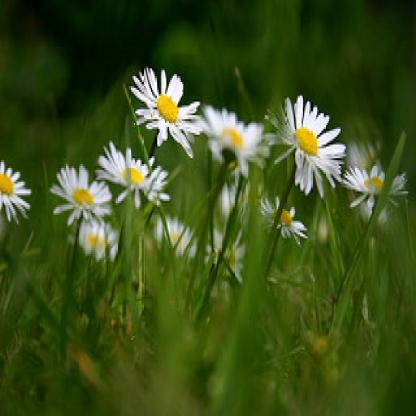ASTER: (7, 37, 399, 318)
